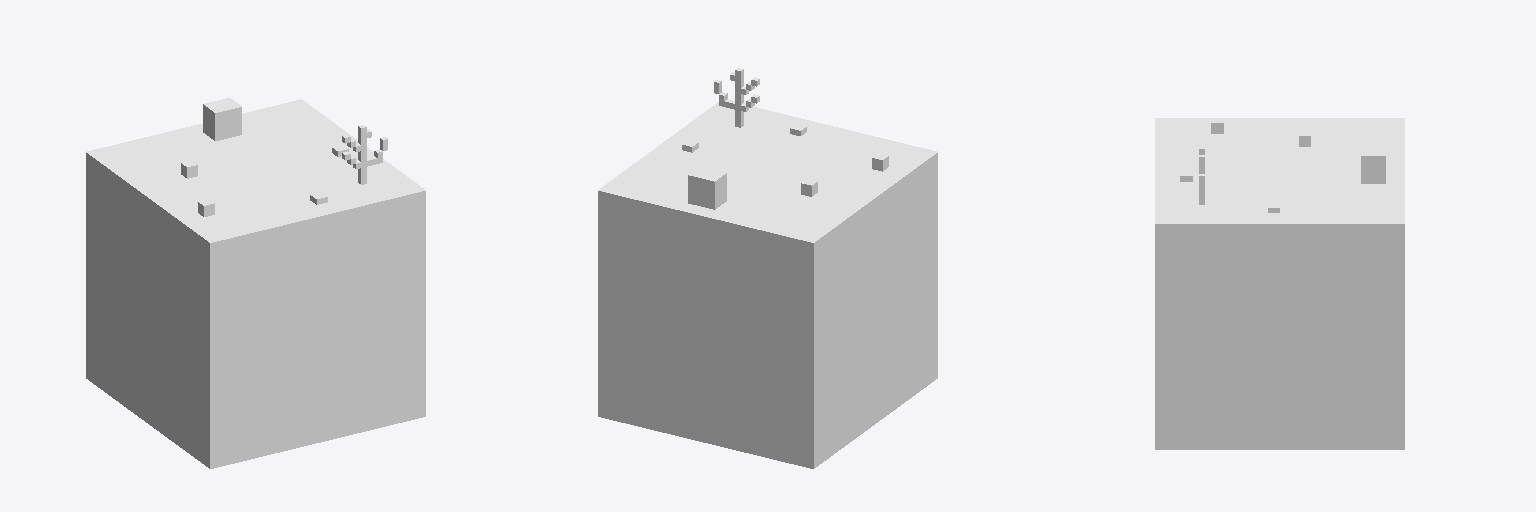
The model's file is snowFloor.obj.
3 views of the same model, side by side, from view 1: azimuth 30°, elevation 25°; view 2: azimuth 150°, elevation 25°; view 3: azimuth 270°, elevation 25° (orthographic).
Visible parts, largest first — view 1: object 1; view 2: object 1; view 3: object 1.
Boxes of the visible parts, x1,y1,x2,y2 form: object 1: [86, 98, 425, 468]; object 1: [598, 68, 937, 468]; object 1: [1155, 118, 1404, 449].
Bounding box in the file's own units: 4 × 5 × 4.